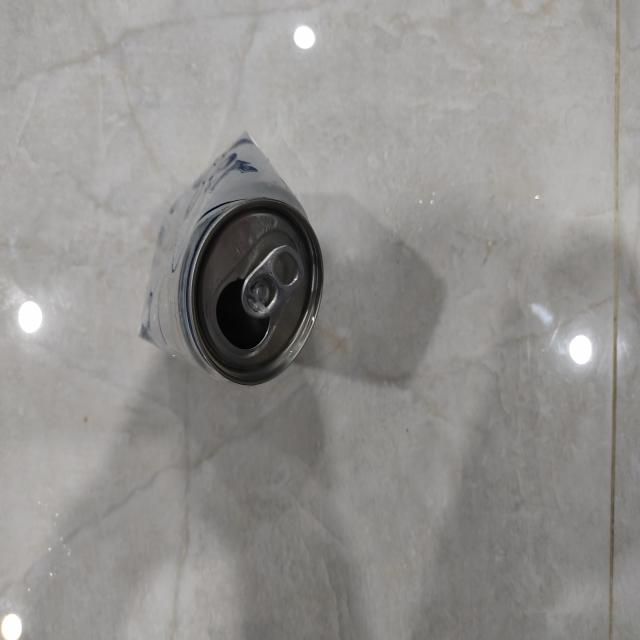metal: (139, 132, 323, 385)
